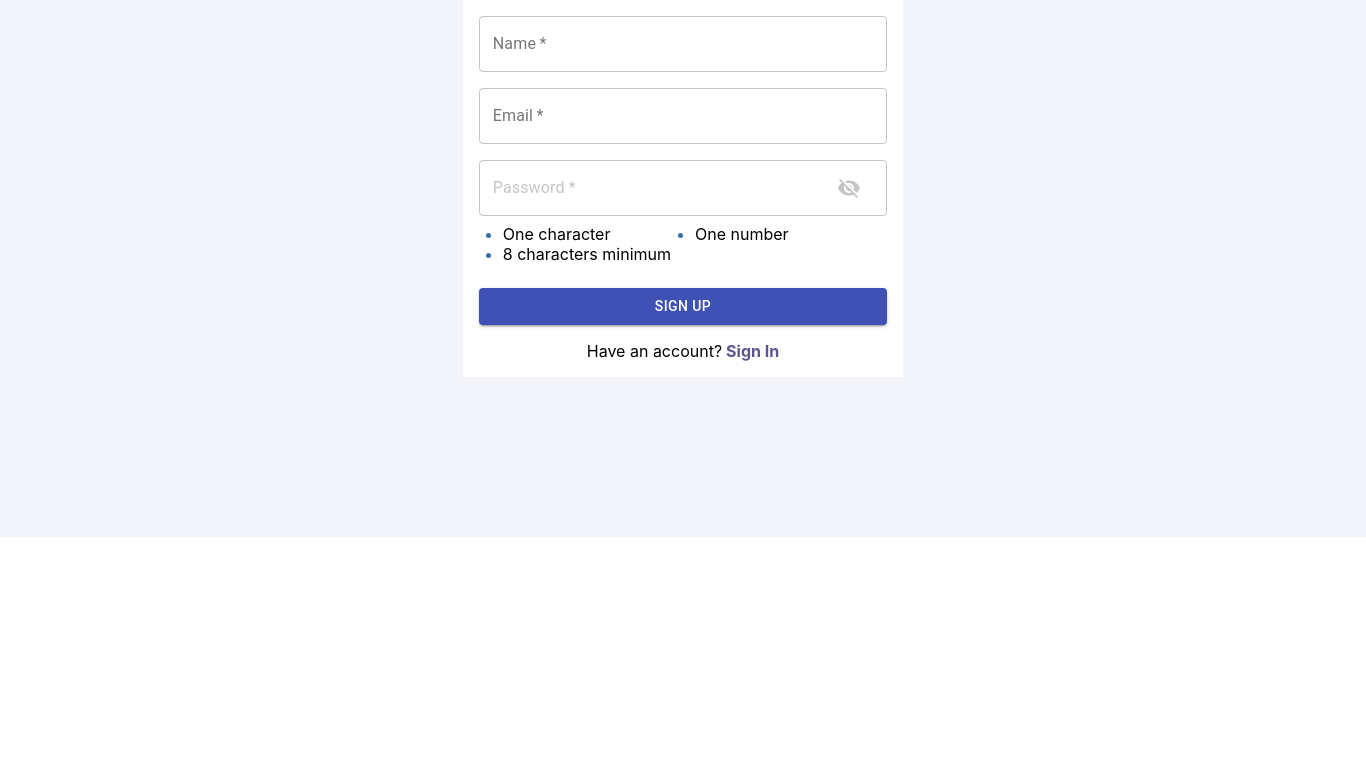
Test: Sign up tests › Can see alert when failing to create account with an email address already in use
Type "sponge bob" into the field labelled "Name *" at coordinates (683, 44), box [479,16,887,72]
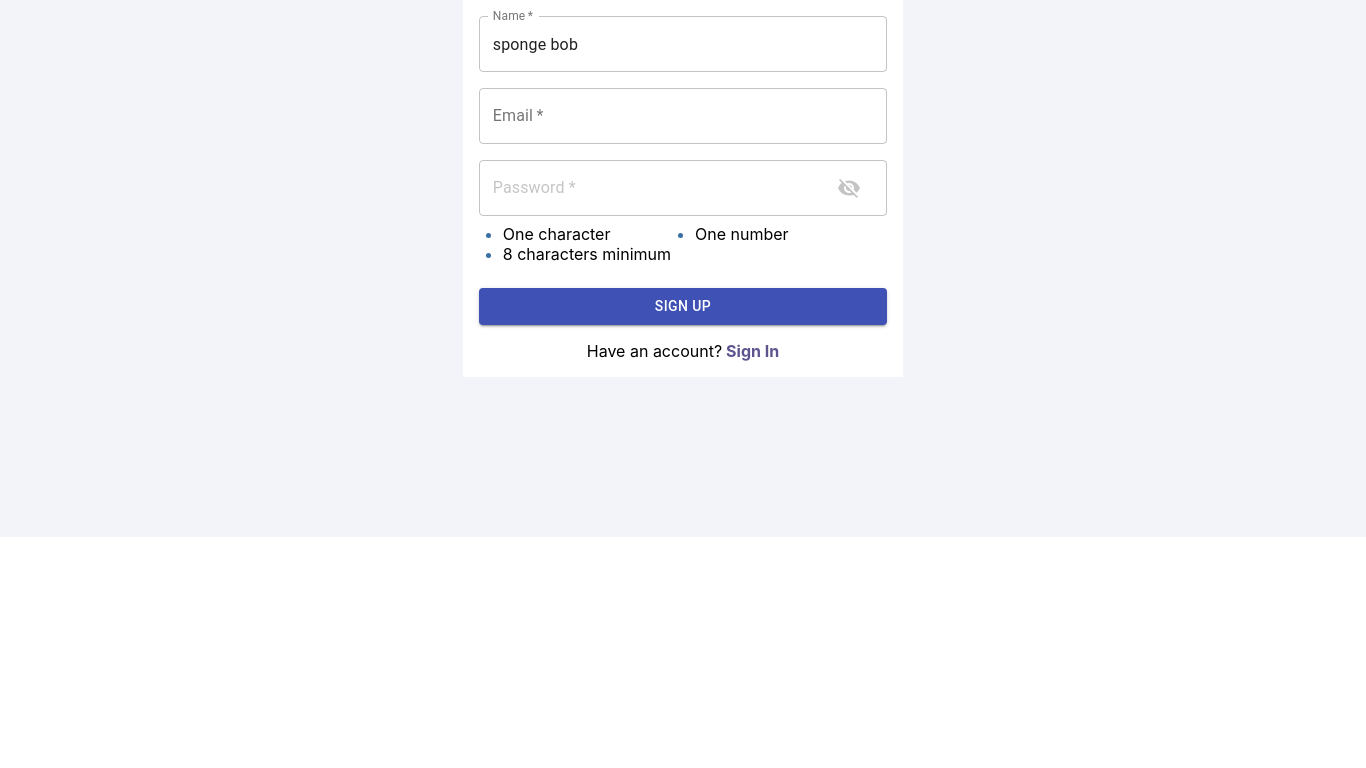
Type "spongebob@invoice.com" into the field labelled "Email *" at coordinates (683, 116), box [479,88,887,144]
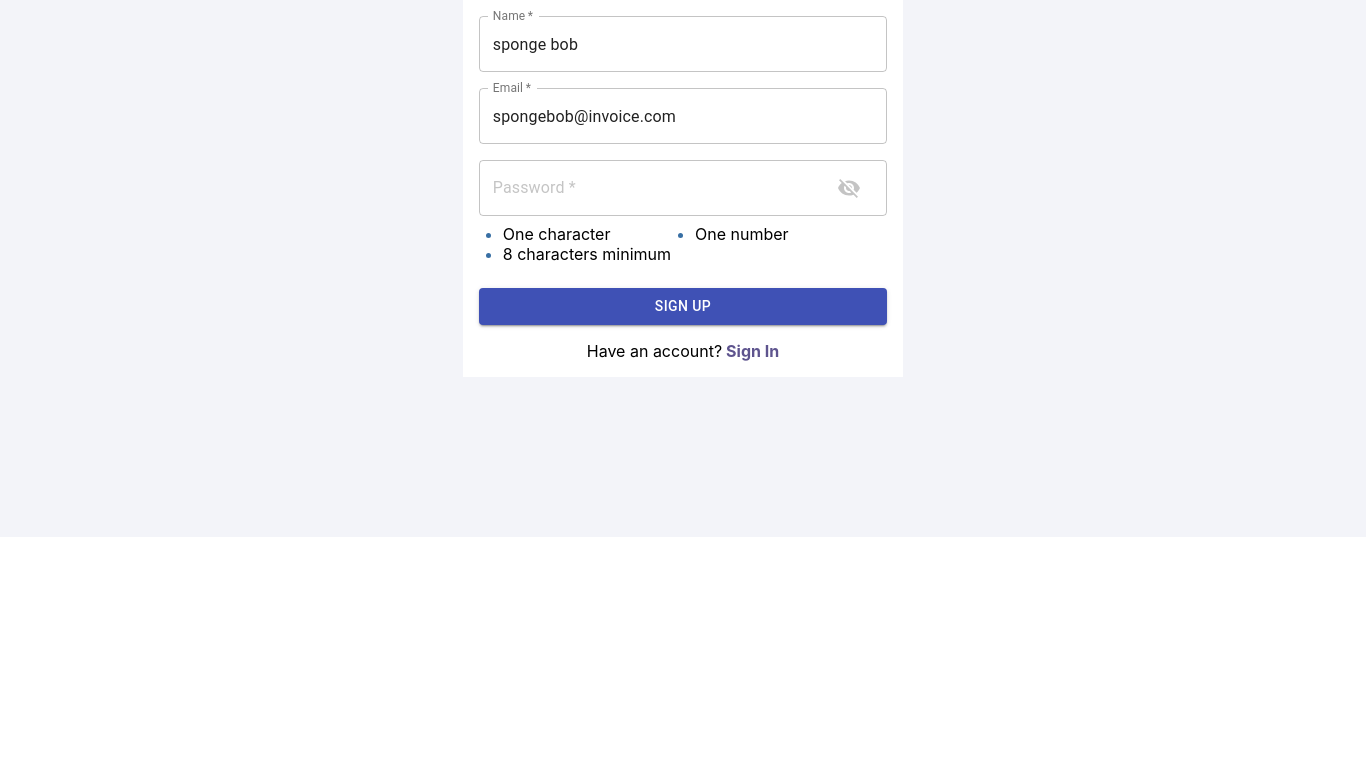
Type "1Asdjfk#$(1" into the password field with placeholder "Password" at coordinates (648, 188), box [479,160,817,216]
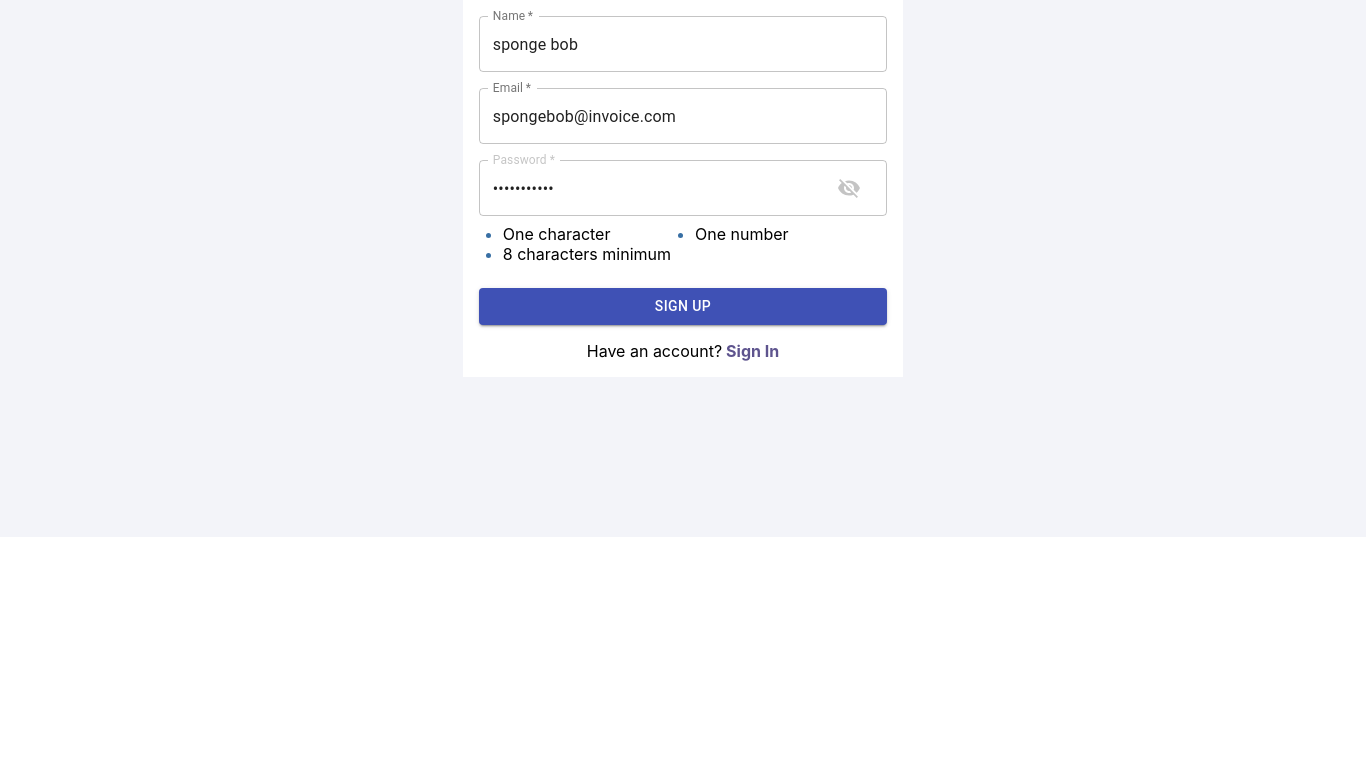
Click the button "Sign Up" at coordinates (683, 306), box [479,288,887,324]
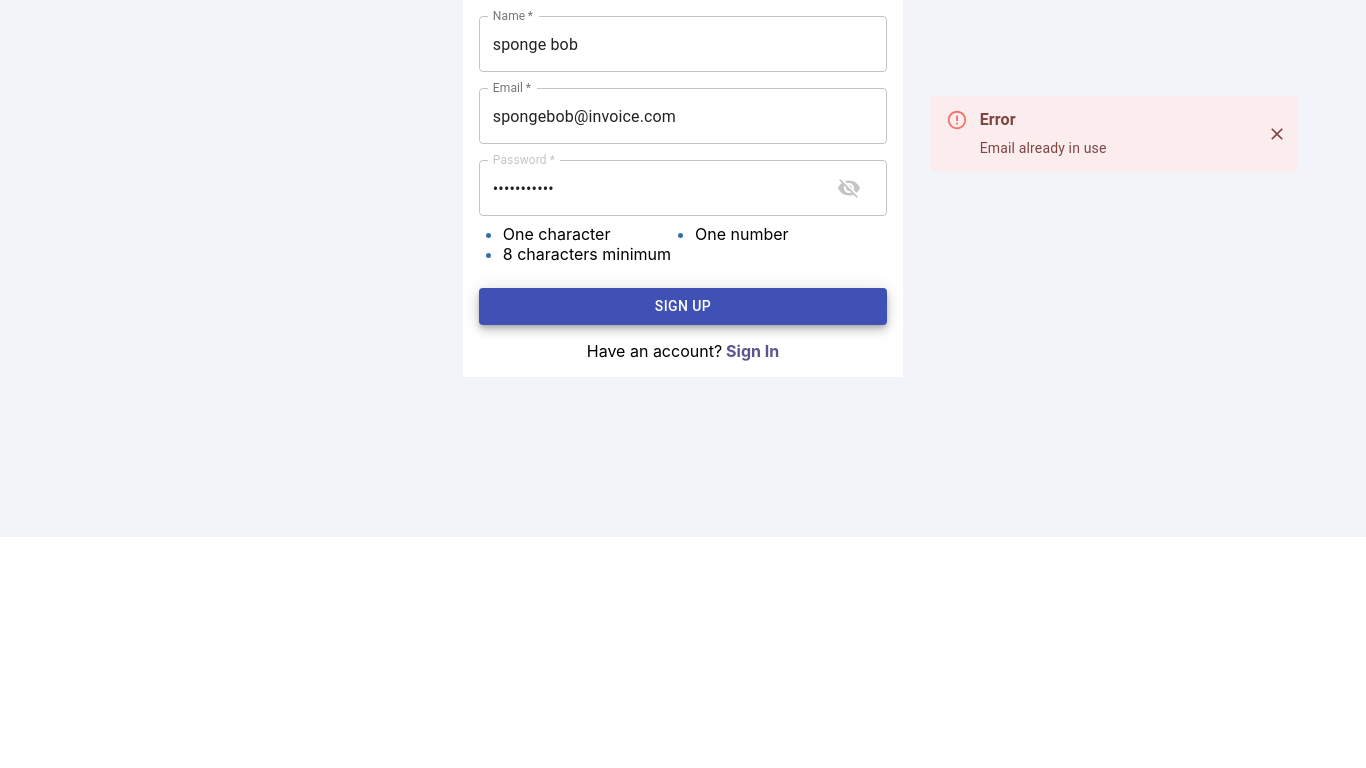
Check: the message "Error Email already in use" is shown, box [930,96,1298,172]
Check: the text "Email already in use" is shown, box [980,138,1106,158]
